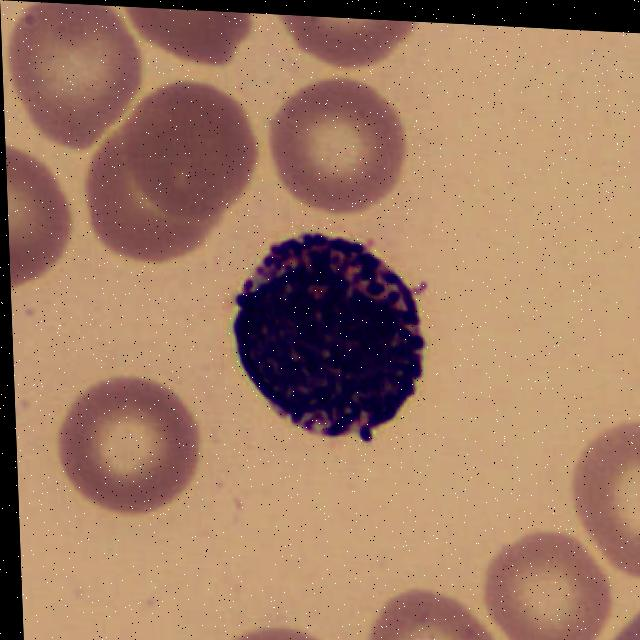basophil: (211, 227, 456, 462)
rbc: (261, 70, 418, 234), (51, 371, 212, 523), (74, 129, 207, 302), (14, 1, 140, 157), (130, 85, 256, 234), (568, 361, 640, 606), (482, 531, 611, 640), (5, 146, 76, 306), (129, 7, 263, 83), (262, 14, 419, 76), (350, 579, 503, 640), (201, 605, 343, 640), (574, 593, 640, 640)
